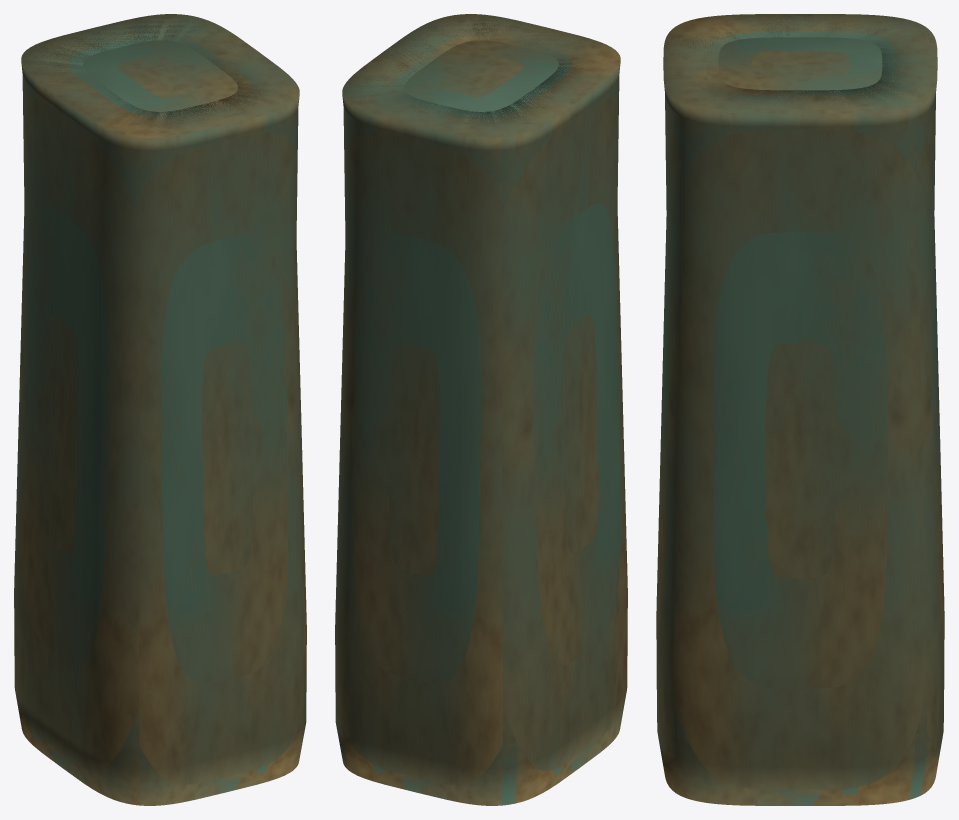
File: Small hanging bell__n4.glb
3 views of the same model, side by side, from view 1: azimuth 30°, elevation 25°; view 2: azimuth 150°, elevation 25°; view 3: azimuth 270°, elevation 25° (orthographic). The views are drawn at different scales.
Parts seen in each view (by area): view 1: Small hanging bell; view 2: Small hanging bell; view 3: Small hanging bell.
Boxes of the visible parts, bbox=[...] form: Small hanging bell: bbox=[14, 14, 306, 805]; Small hanging bell: bbox=[335, 14, 627, 805]; Small hanging bell: bbox=[656, 14, 944, 805].
Bounding box in the file's own units: 0.2239 × 0.69 × 0.2603.
1 material, 1 textured.
